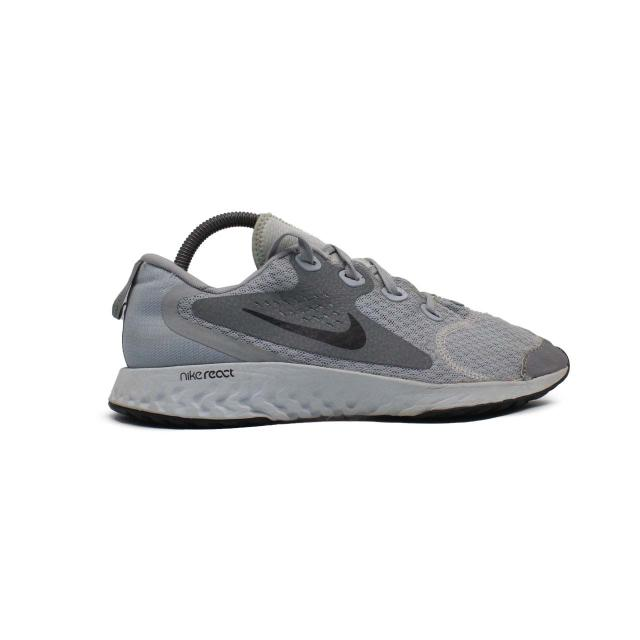heel: (116, 259, 174, 367)
midsole: (105, 363, 570, 419)
uppersole: (168, 208, 571, 382)
